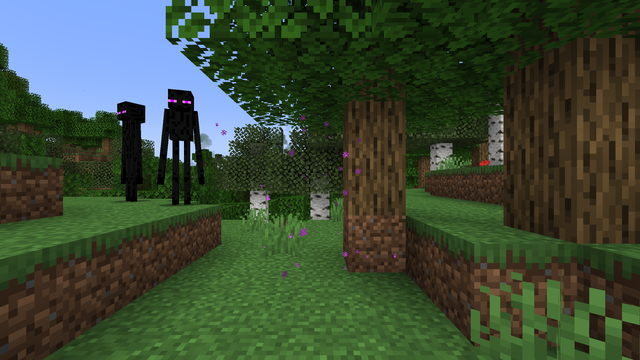endermens: (162, 85, 198, 205), (112, 98, 147, 201)
